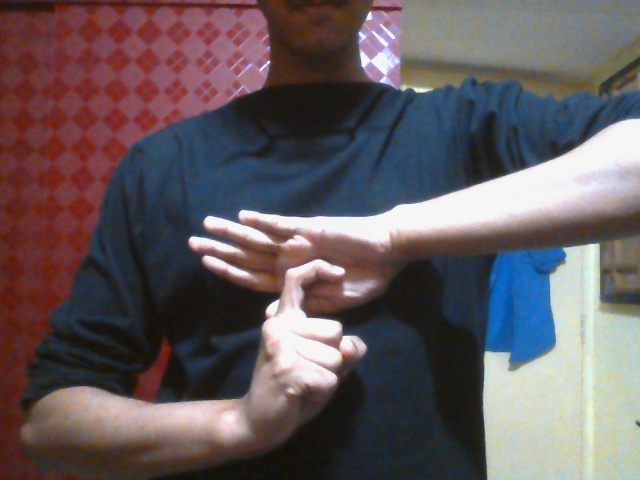R: (186, 207, 383, 431)
